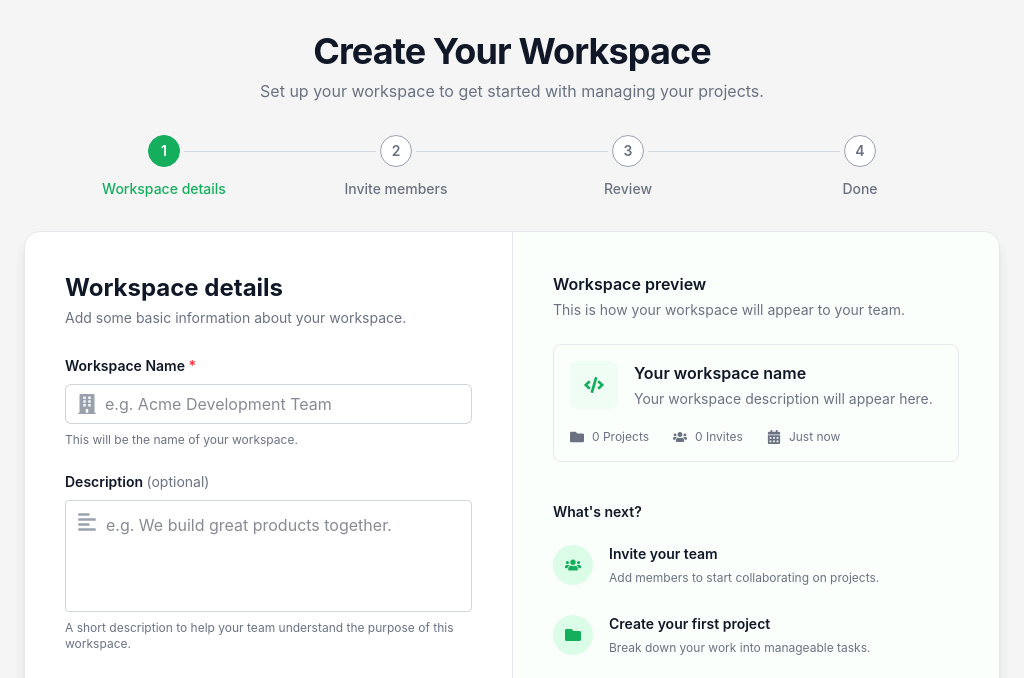
Test: Create workspace page › returns to the relevant step when the API rejects an invite field
In the field labelled "Workspace Name *": (268, 404) [65,384,472,424], type "  Engineering  "
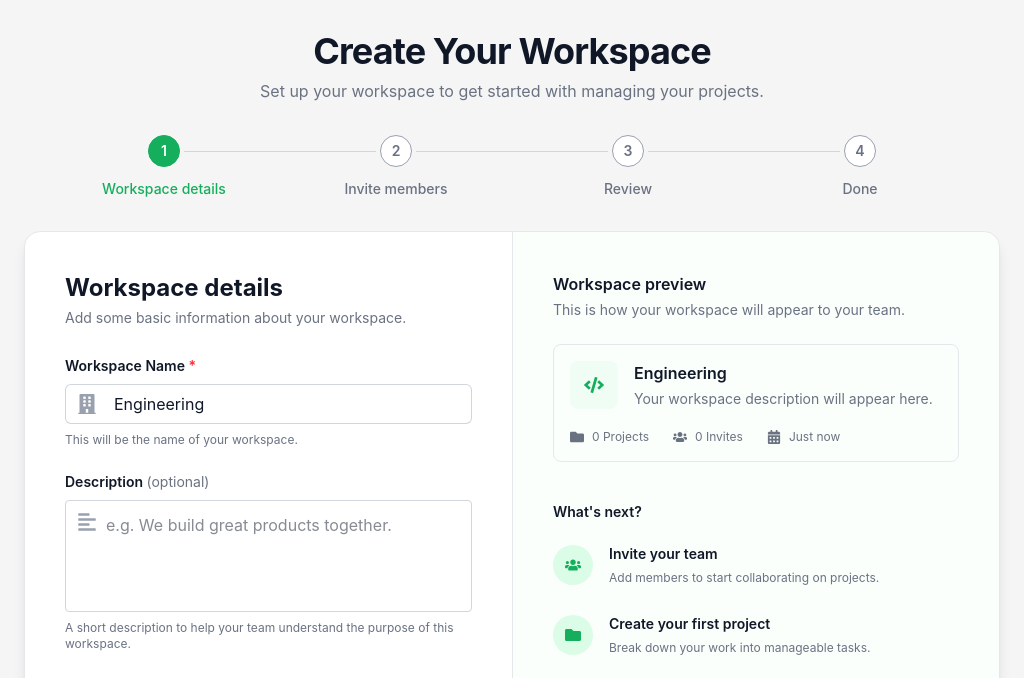
In the text box labelled "Description (optional)": (268, 556) [65,500,472,612], type "  Builds the product.  "
(page scrolled)
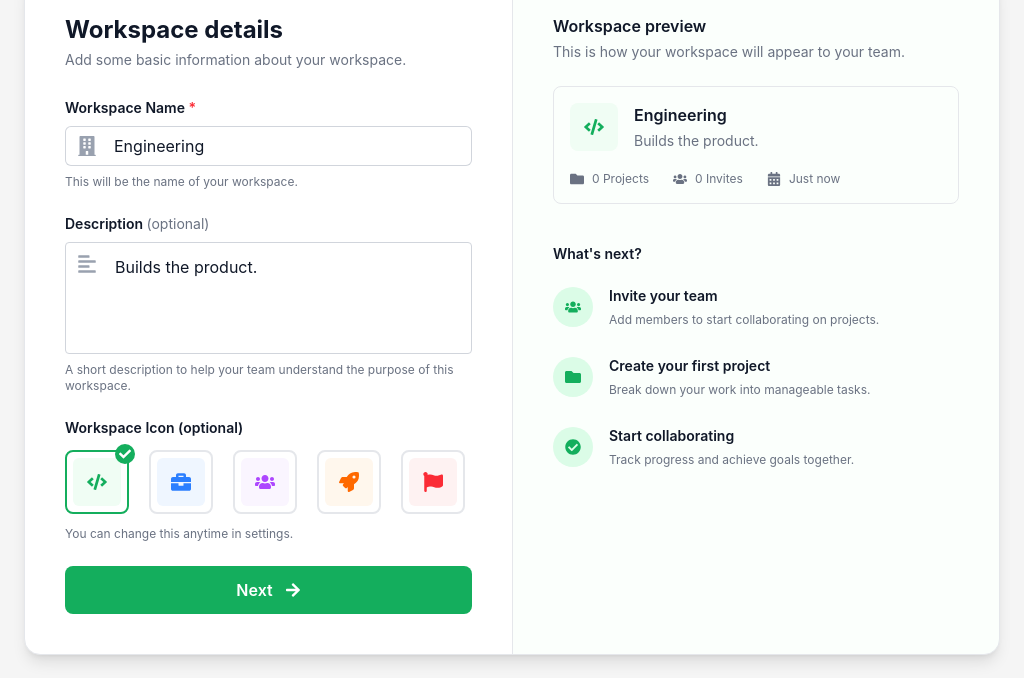
Click the button "Next": click(268, 590) [65,566,472,614]
(page scrolled)
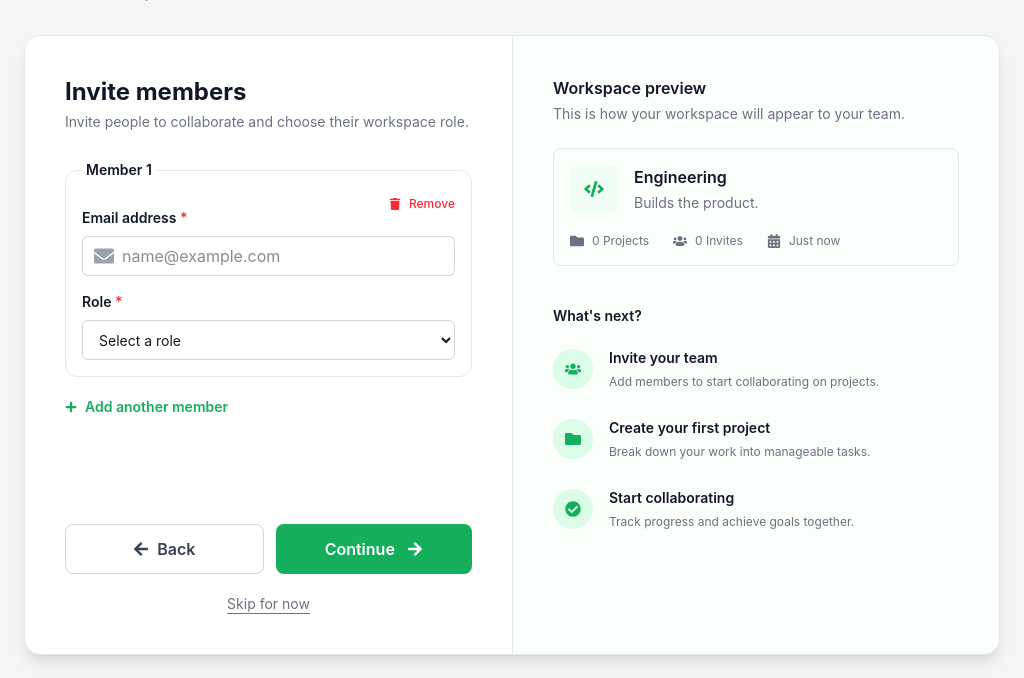
Expected: the heading "Invite members" is shown, [65,77,246,106]
In the field labelled "Email address *": (268, 256) [82,236,455,276], type "dev@example.com"
Select "MEMBER" in the dropdown labelled "Role *": (268, 340) [82,320,455,360]
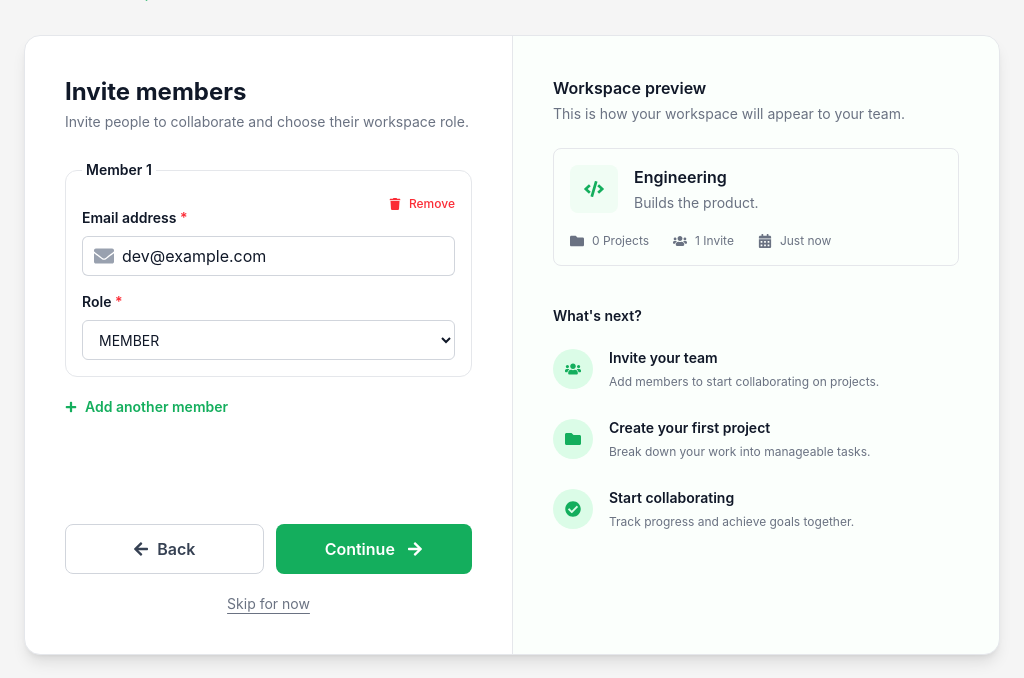
Click the button "Continue": click(374, 549) [276,524,472,574]
(page scrolled)
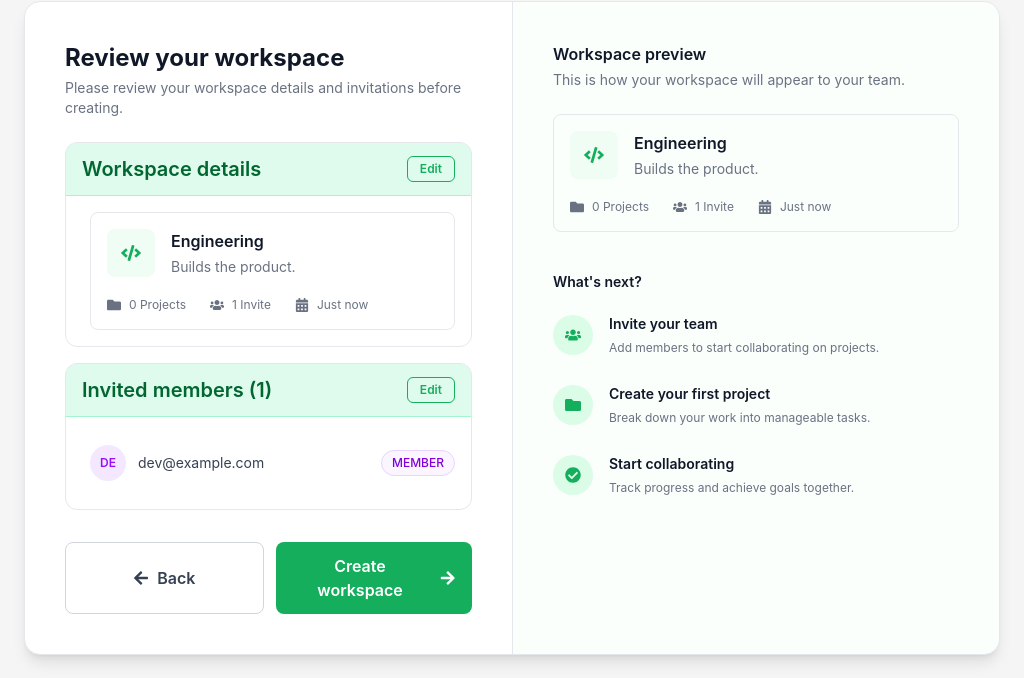
Click the button "Create workspace": click(374, 578) [276,542,472,614]
(page scrolled)
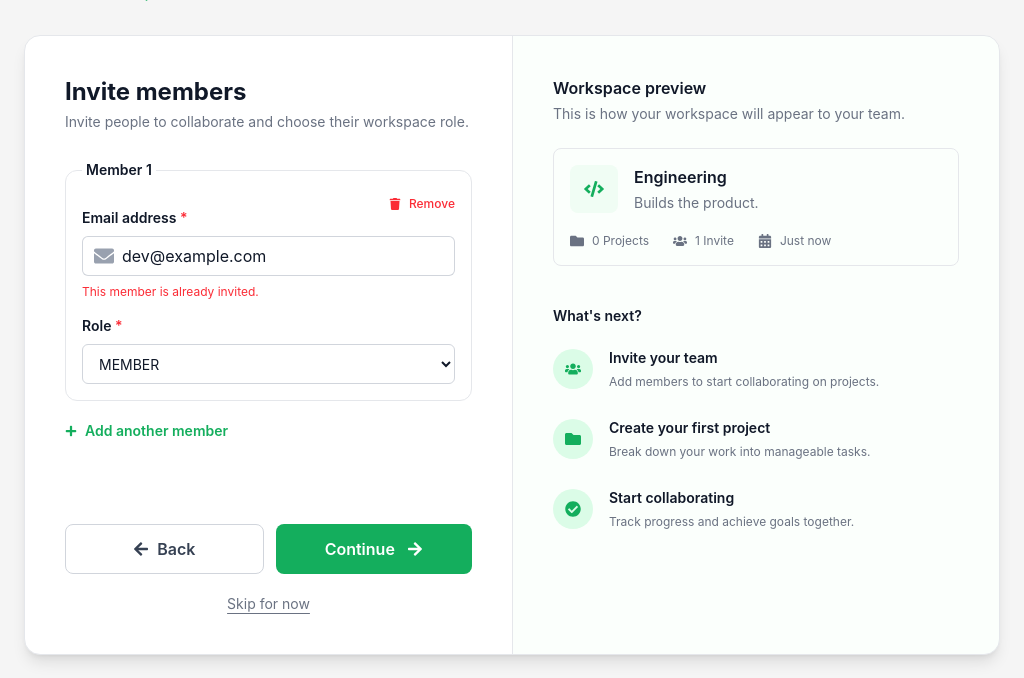
Expected: the text "This member is already invited." is shown, [82,284,259,299]
Expected: the heading "Invite members" is shown, [65,77,246,106]
